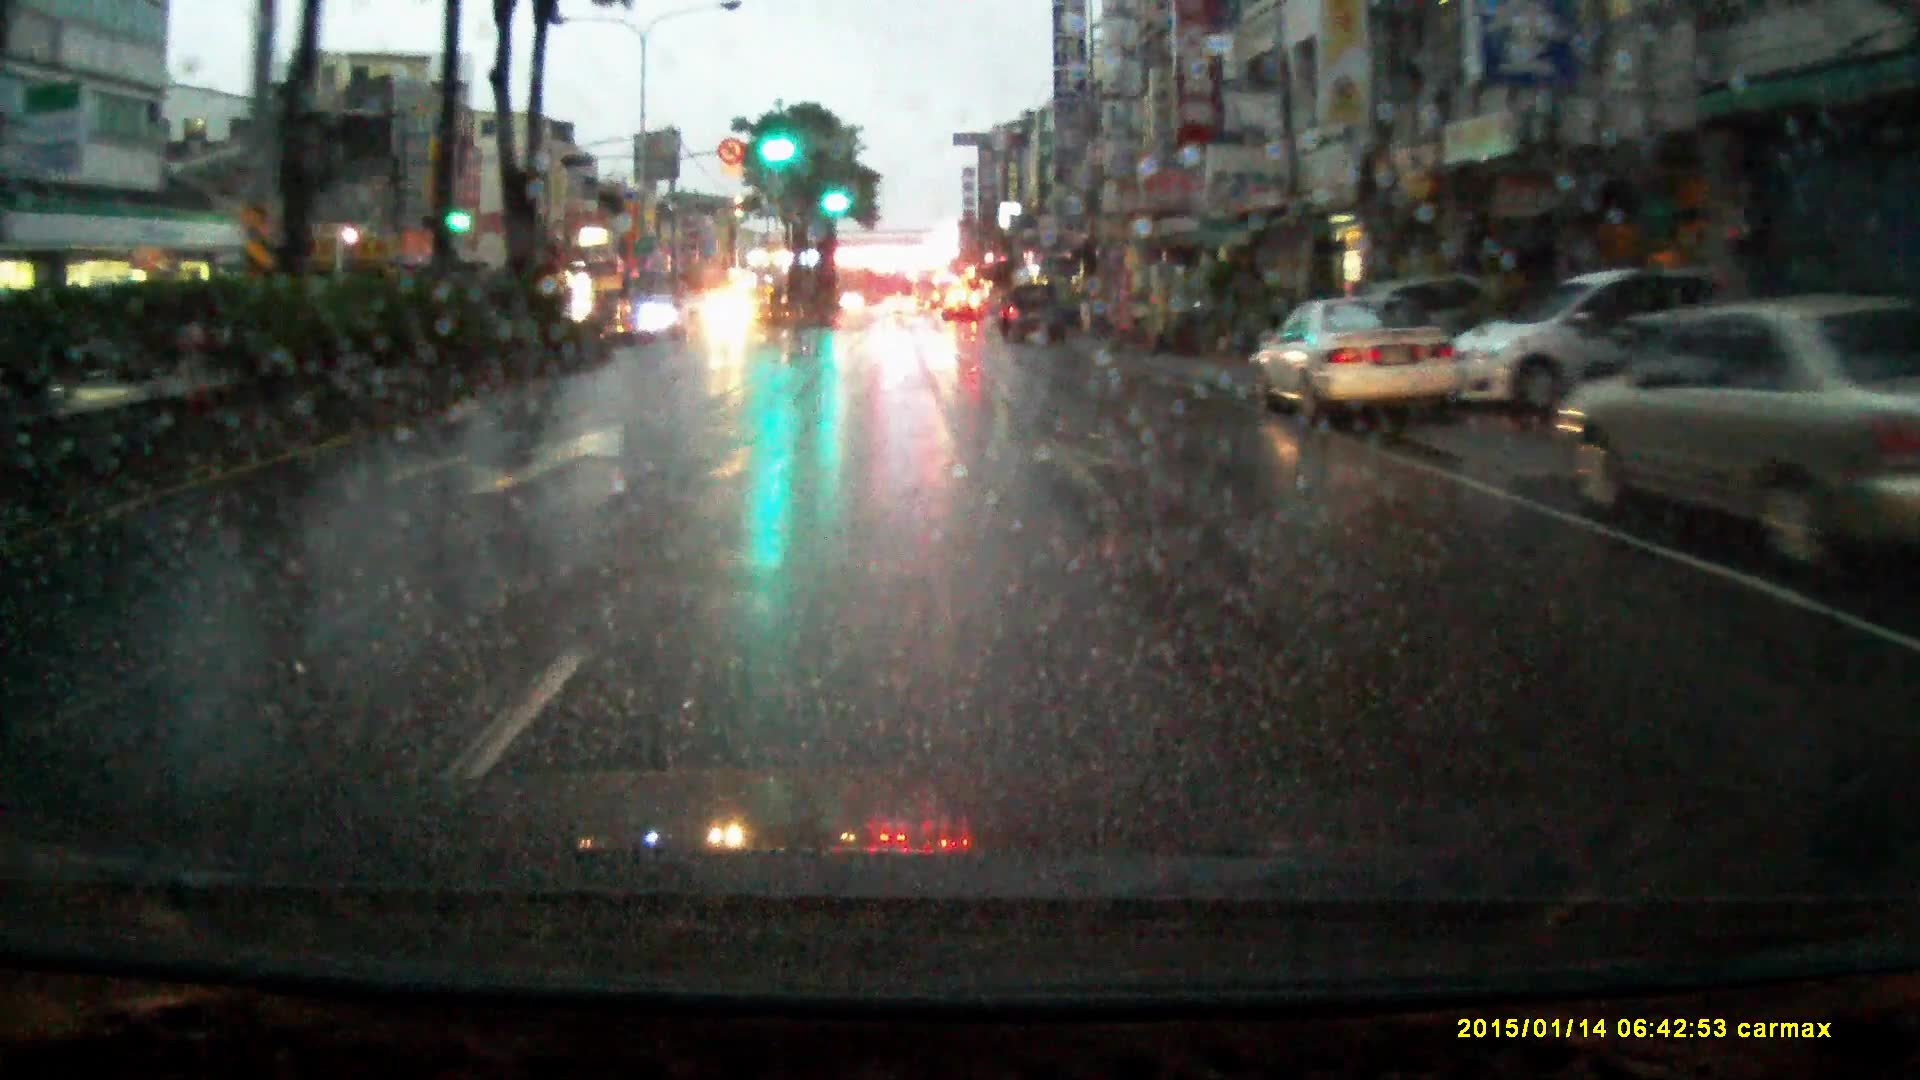vehicle: (1560, 305, 1911, 559), (1452, 268, 1745, 417), (1245, 297, 1465, 435), (1002, 287, 1069, 347), (695, 294, 760, 349), (628, 302, 673, 335), (914, 278, 942, 322), (944, 295, 980, 326), (884, 305, 916, 324)
